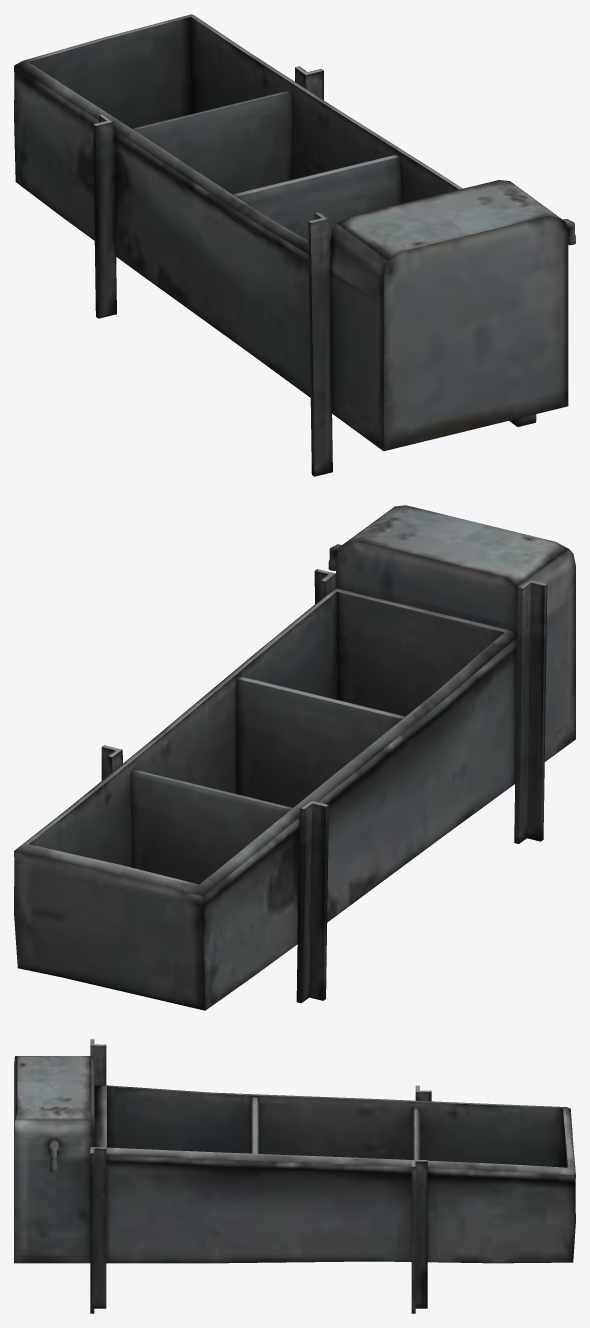
Rendered from trough_farm01.glb.
3 renders of one model, top to bottom at view 1: azimuth 30°, elevation 25°; view 2: azimuth 150°, elevation 25°; view 3: azimuth 270°, elevation 25°, orthographic. The views are drawn at different scales.
Visible parts, largest first — view 1: 0_troughmetal01; view 2: 0_troughmetal01; view 3: 0_troughmetal01.
Boxes of the visible parts, <box> form: 0_troughmetal01: <box>14,14,575,476</box>; 0_troughmetal01: <box>14,505,575,1010</box>; 0_troughmetal01: <box>14,1039,575,1313</box>.
Size of the model in its own units: 0.9932 by 1 by 2.67.
Materials: 1 (1 with a texture image).
